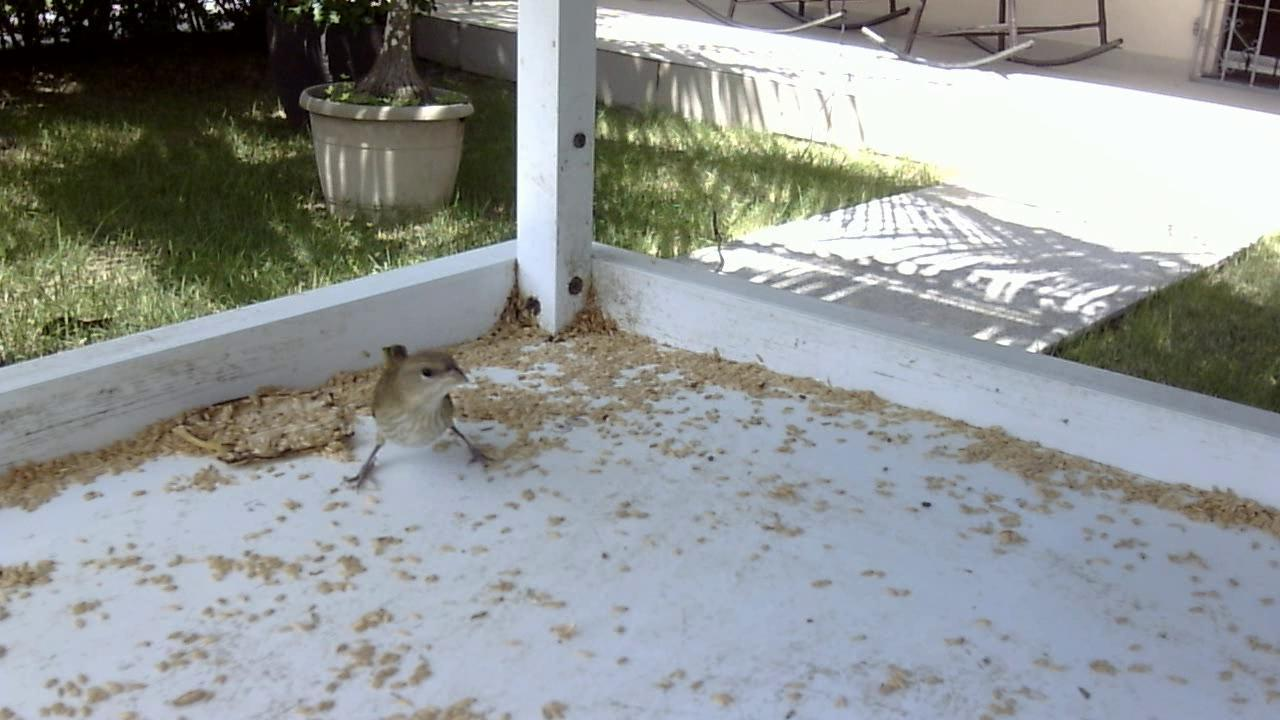canario_do_amazonas: (332, 341, 502, 499)
